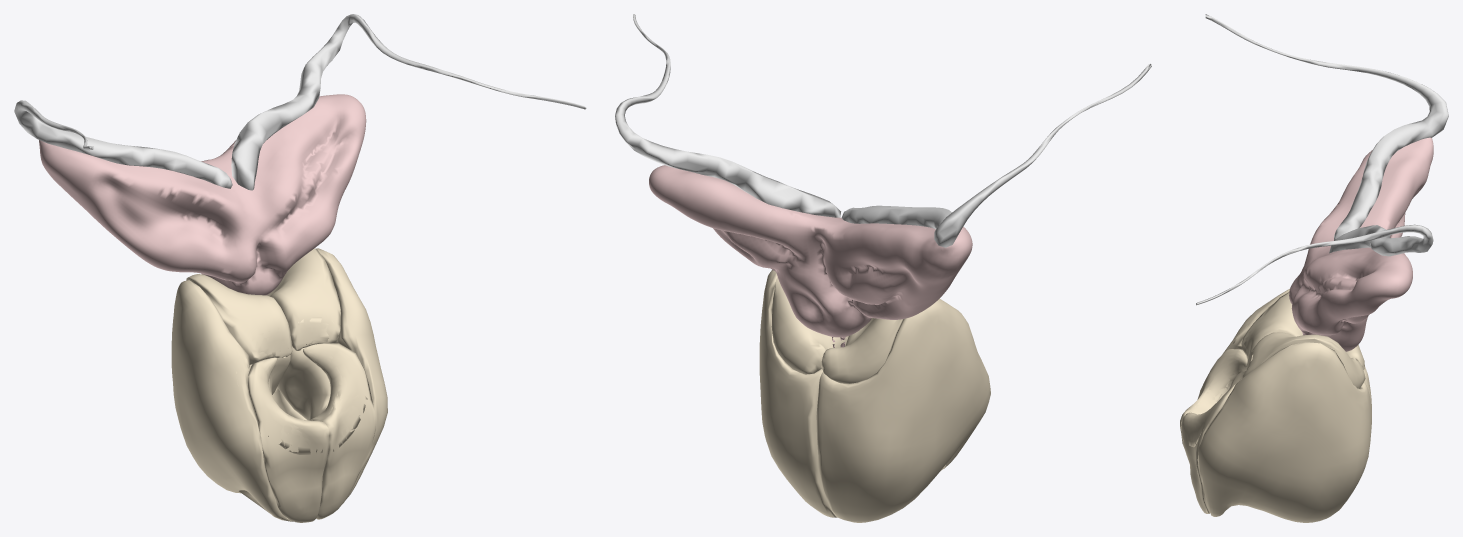
File: vh_m_prostate-100.fbx
3 renders of one model, left to right at view 1: azimuth 30°, elevation 25°; view 2: azimuth 150°, elevation 25°; view 3: azimuth 270°, elevation 25°, orthographic. The views are drawn at different scales.
Parts seen in each view (by area): view 1: VH_M_seminal_vesicle, VH_M_peripheral_zone_of_prostate_R, VH_M_anterior_fibromuscular_stroma_R, VH_M_anterior_fibromuscular_stroma_L, VH_M_vas_deferens_R, VH_M_vas_deferens_L, VH_M_central_zone_of_prostate_L, VH_M_peripheral_zone_of_prostate_L, VH_M_central_zone_of_prostate_R, VH_M_base_of_prostate, VH_M_transition_zone__of_prostate_L; view 2: VH_M_peripheral_zone_of_prostate_R, VH_M_seminal_vesicle, VH_M_peripheral_zone_of_prostate_L, VH_M_vas_deferens_R, VH_M_vas_deferens_L, VH_M_central_zone_of_prostate_R, VH_M_central_zone_of_prostate_L; view 3: VH_M_peripheral_zone_of_prostate_L, VH_M_seminal_vesicle, VH_M_vas_deferens_L, VH_M_vas_deferens_R, VH_M_central_zone_of_prostate_L, VH_M_central_zone_of_prostate_R, VH_M_anterior_fibromuscular_stroma_L, VH_M_anterior_fibromuscular_stroma_R, VH_M_base_of_prostate, VH_M_peripheral_zone_of_prostate_R.
Boxes of the visible parts, left/top/right/bottom form: VH_M_seminal_vesicle: left=39, top=94, right=366, bottom=295; VH_M_peripheral_zone_of_prostate_R: left=171, top=280, right=293, bottom=521; VH_M_anterior_fibromuscular_stroma_R: left=248, top=357, right=329, bottom=522; VH_M_anterior_fibromuscular_stroma_L: left=303, top=343, right=375, bottom=519; VH_M_vas_deferens_R: left=231, top=14, right=586, bottom=190; VH_M_vas_deferens_L: left=14, top=100, right=232, bottom=188; VH_M_central_zone_of_prostate_L: left=267, top=248, right=340, bottom=387; VH_M_peripheral_zone_of_prostate_L: left=272, top=248, right=387, bottom=499; VH_M_central_zone_of_prostate_R: left=186, top=274, right=292, bottom=364; VH_M_base_of_prostate: left=236, top=317, right=367, bottom=454; VH_M_transition_zone__of_prostate_L: left=277, top=346, right=330, bottom=420; VH_M_peripheral_zone_of_prostate_R: left=816, top=298, right=990, bottom=522; VH_M_seminal_vesicle: left=649, top=165, right=972, bottom=337; VH_M_peripheral_zone_of_prostate_L: left=759, top=270, right=837, bottom=517; VH_M_vas_deferens_R: left=615, top=14, right=840, bottom=217; VH_M_vas_deferens_L: left=841, top=64, right=1151, bottom=247; VH_M_central_zone_of_prostate_R: left=821, top=318, right=902, bottom=383; VH_M_central_zone_of_prostate_L: left=771, top=277, right=848, bottom=374; VH_M_peripheral_zone_of_prostate_L: left=1197, top=342, right=1371, bottom=522; VH_M_seminal_vesicle: left=1289, top=137, right=1433, bottom=351; VH_M_vas_deferens_L: left=1205, top=14, right=1448, bottom=240; VH_M_vas_deferens_R: left=1196, top=224, right=1433, bottom=305; VH_M_central_zone_of_prostate_L: left=1241, top=332, right=1365, bottom=388; VH_M_central_zone_of_prostate_R: left=1241, top=292, right=1364, bottom=369; VH_M_anterior_fibromuscular_stroma_L: left=1181, top=378, right=1241, bottom=513; VH_M_anterior_fibromuscular_stroma_R: left=1180, top=349, right=1247, bottom=443; VH_M_base_of_prostate: left=1182, top=325, right=1252, bottom=447; VH_M_peripheral_zone_of_prostate_R: left=1200, top=289, right=1371, bottom=409.
Bounding box in the file's own units: 8.3 × 7.05 × 4.28.
